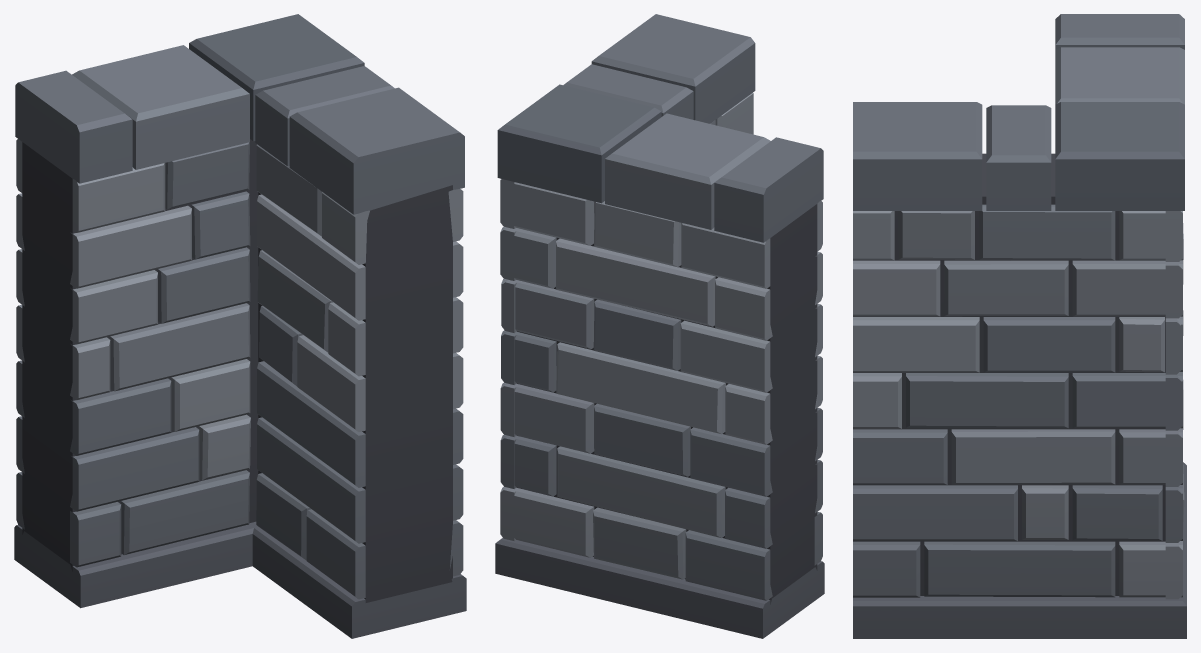
File: wall_ashlar_corner_A.glb
3 views of the same model, side by side, from view 1: azimuth 30°, elevation 25°; view 2: azimuth 150°, elevation 25°; view 3: azimuth 270°, elevation 25° (orthographic). The views are drawn at different scales.
Visible parts, largest first — view 1: Item; view 2: Item; view 3: Item.
Part boxes in pixels (x1,y1,x2,y2): Item: [14, 14, 466, 638]; Item: [495, 14, 824, 638]; Item: [853, 14, 1186, 638].
Bounding box in the file's own units: 2.5 × 4 × 2.5.
Materials: 1 (1 with a texture image).
